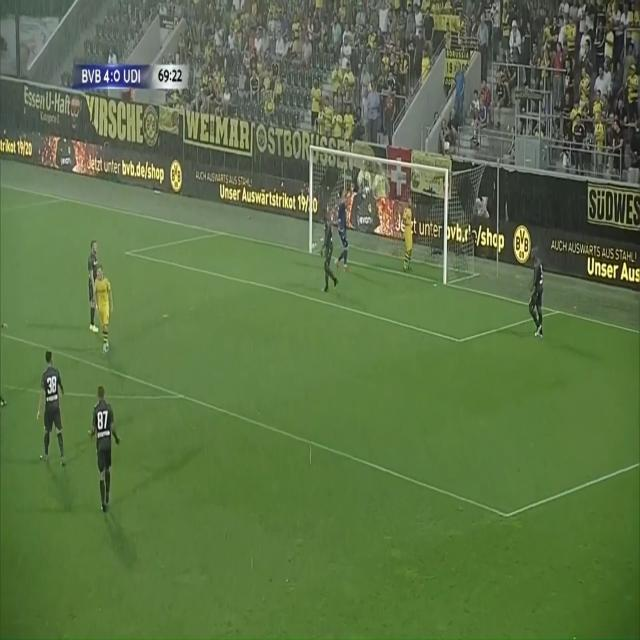goalkeeper: (335, 183, 354, 279)
player: (93, 371, 126, 521), (521, 242, 560, 350), (34, 347, 69, 467), (94, 264, 120, 358), (391, 190, 417, 278), (319, 204, 340, 307), (85, 235, 103, 354)
